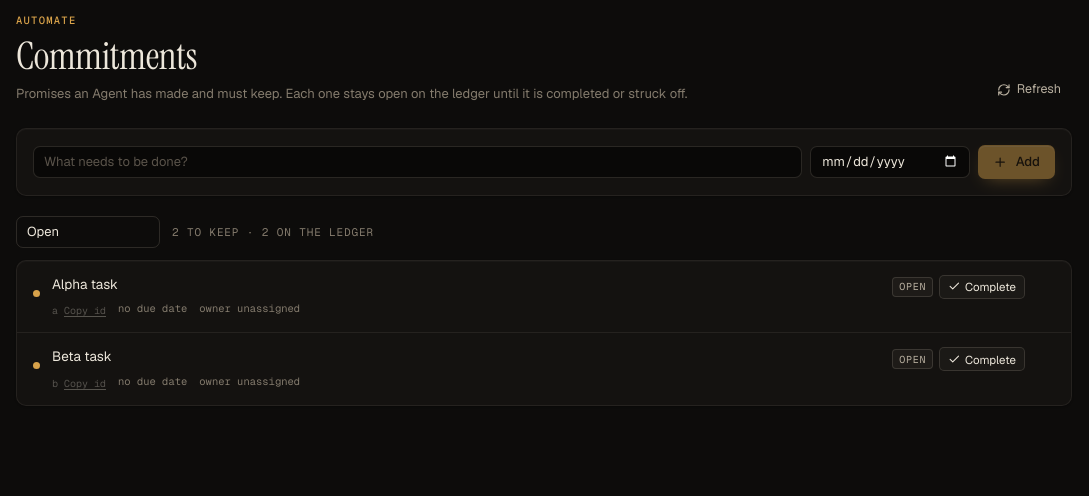
Test: protects a pending row from a read started by creation before the write settles
expect the text "Alpha task" is shown: met, box [52,275,118,293]
Type "Created task" into the field with placeholder "What needs to be done?" at coordinates (418, 162), box [33,146,802,178]
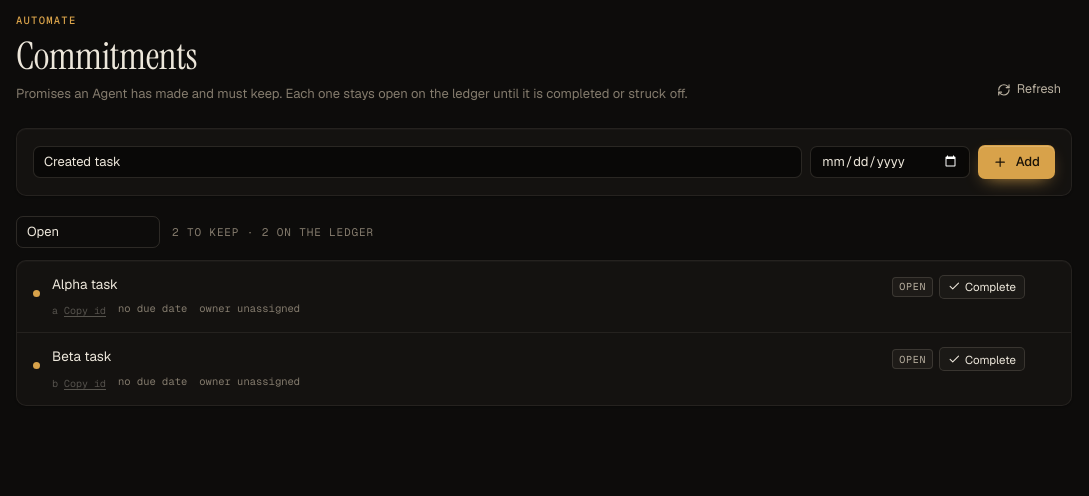
Click the button "Add" at coordinates (1017, 162), box [978,145,1055,179]
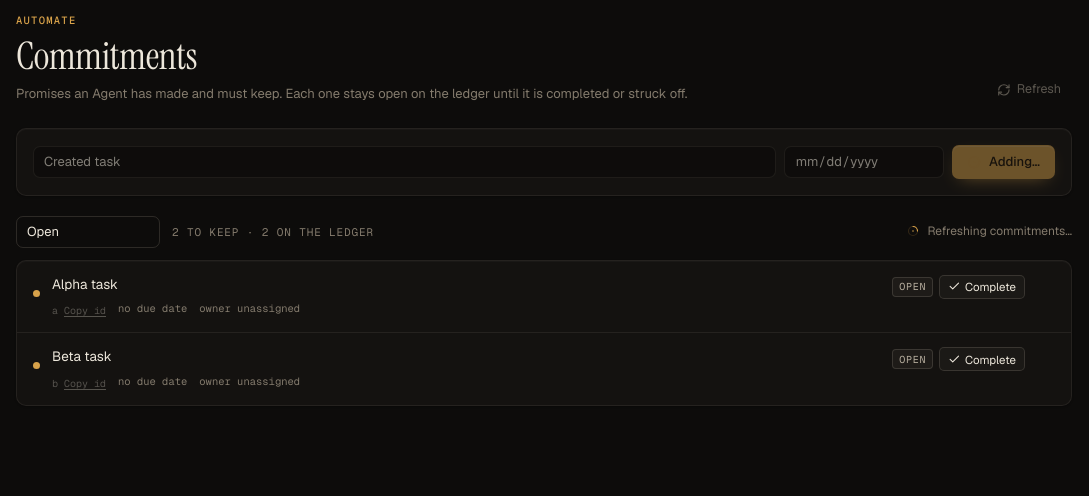
Click the button "Complete" in the row of "Alpha task" at coordinates (982, 287), box [939,275,1025,299]
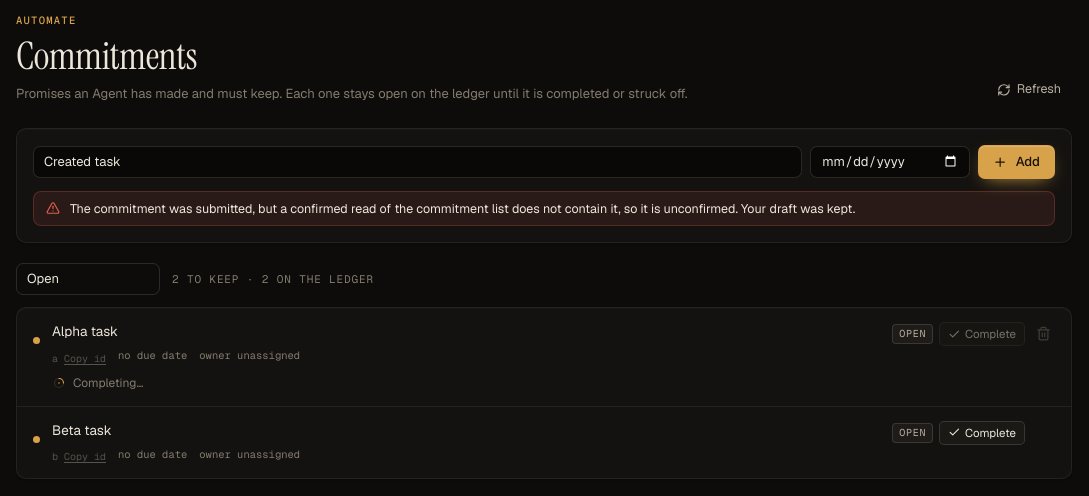
expect the text "open" in the row of "Alpha task" is shown: met, box [899,328,926,340]
expect the button named "Delete" is disabled: met, box [1031,322,1055,346]
